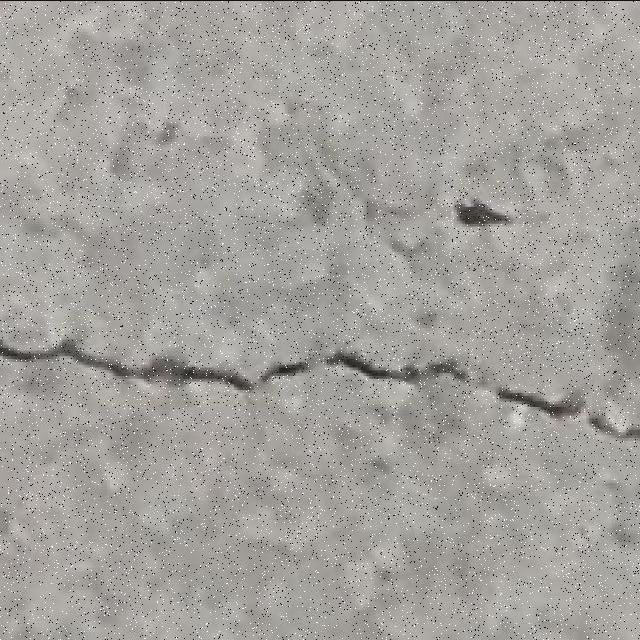crack: (363, 184, 531, 285), (493, 193, 637, 299), (434, 193, 549, 231), (138, 354, 256, 391), (3, 335, 115, 367), (359, 192, 430, 224)
